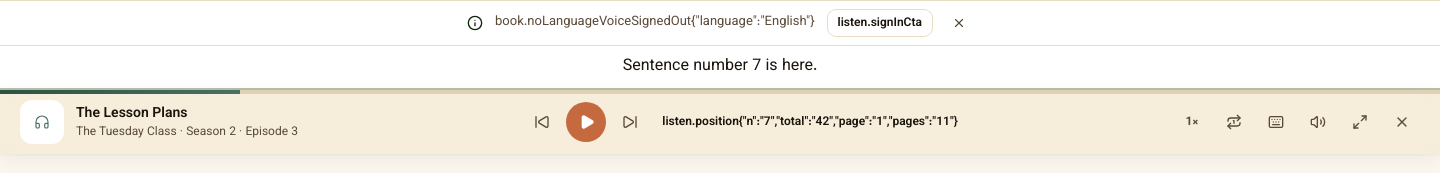
Scenario: the computer has no voice for the book’s language › says so, with how to hear it properly, until its × is pressed
Expected: the text "book.noLanguageVoiceSignedOut{\"language\":\"English\"}" shows "\"language\":\"English\"", [495,12,815,32]
Expected: the button "listen.signInCta" is shown, [826,9,933,37]
Step 1. Click the button named "book.closeNote" → (959,23), box [945,9,973,37]
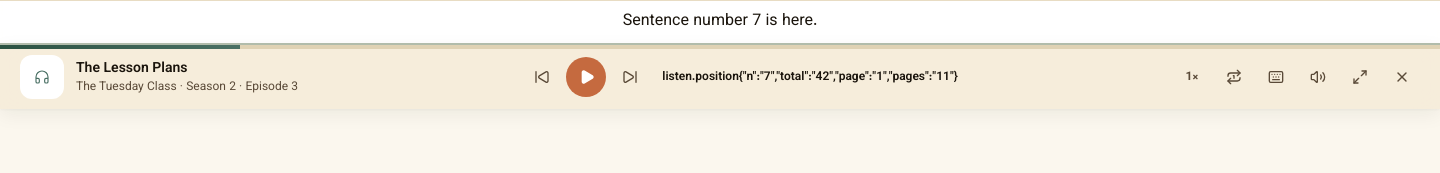
Expected: the text "book.noLanguageVoice" is gone
